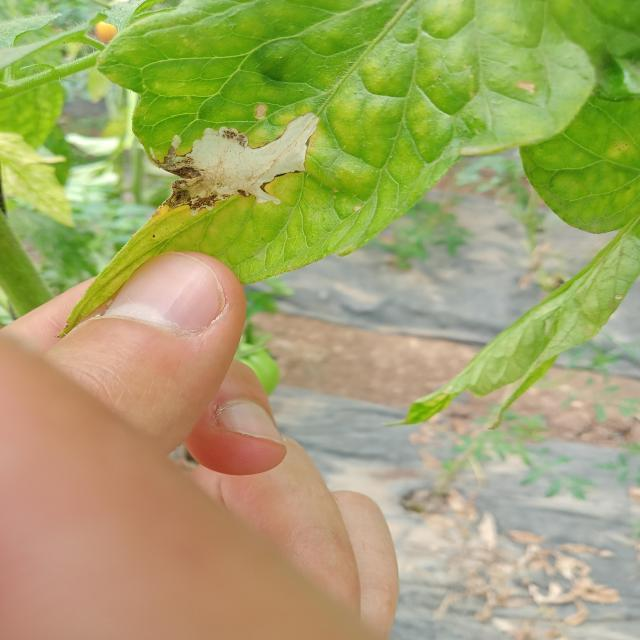Tuta absoluta: (153, 116, 327, 218)
